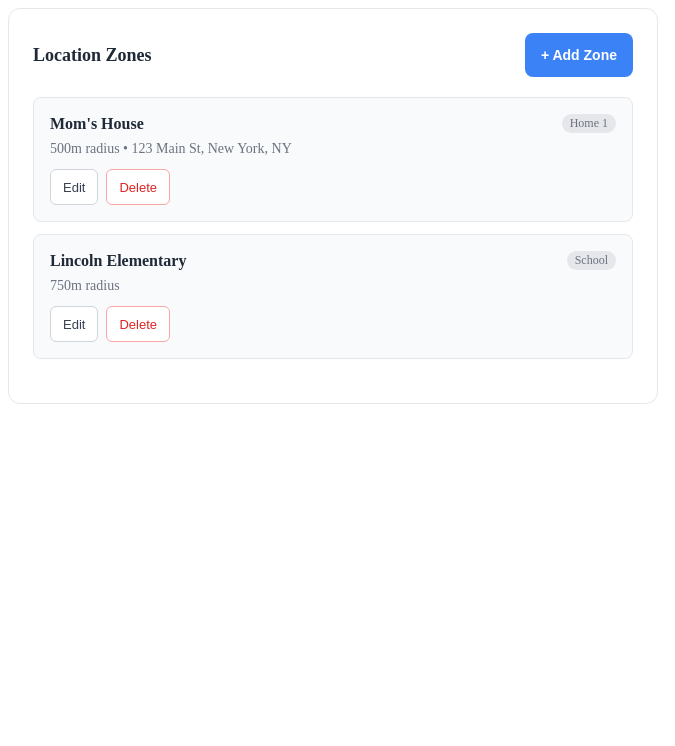
it: LocationZoneEditor › Edit Zone › opens form with zone data when edit clicked
Click the button with test id "edit-zone-zone-1" at (74, 187), box [50,169,98,205]
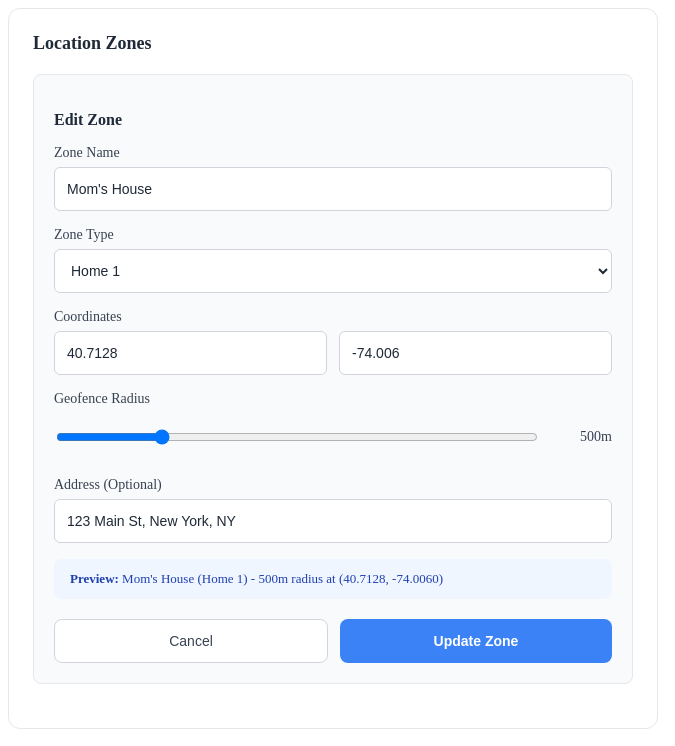
Check: the element with test id "zone-form" is shown
Check: the heading "Edit Zone" is shown, box [54,111,122,128]
Check: the field with test id "zone-name-input" holds "Mom's House", box [54,167,612,211]
